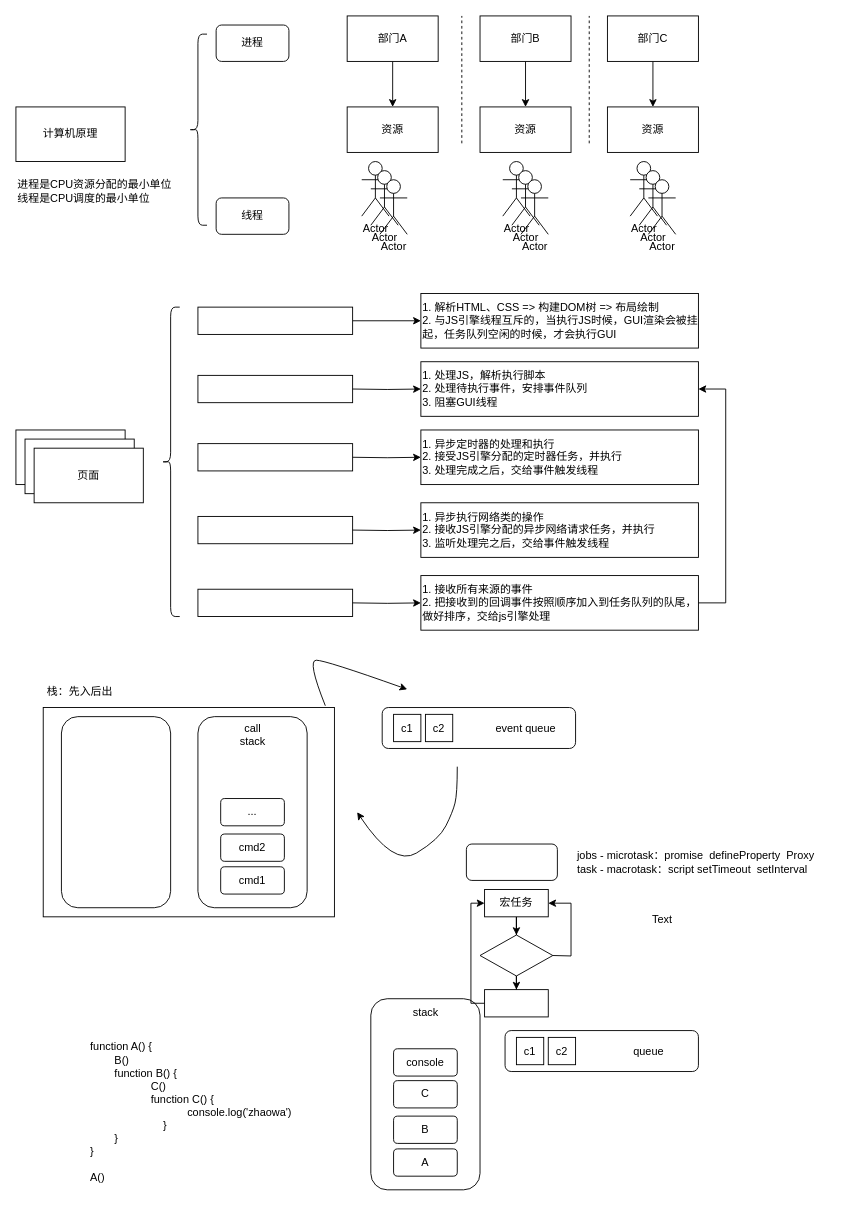
The diagram is 846 pixels wide and 1206 high, and some of its shapes have lost their labels. The centre of each missing label's shape, as x and y in pixels:
GUI渲染线程: (275,320)
JS引擎线程: (275,388)
Memory Heap: (116,812)
事件触发线程: (275,602)
任务: (511,861)
定时器线程: (275,457)
异步请求线程: (275,530)
微任务: (516,1003)
是否有可执行微任务: (516,955)
